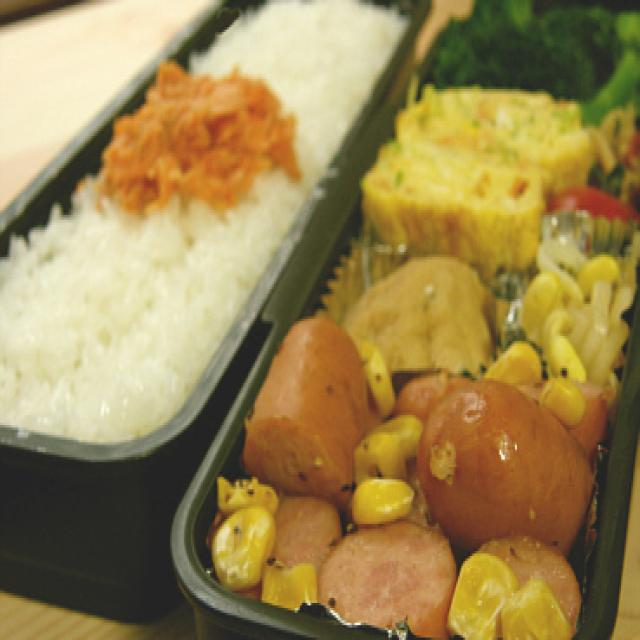熟制海鲜: (330, 230, 492, 378)
